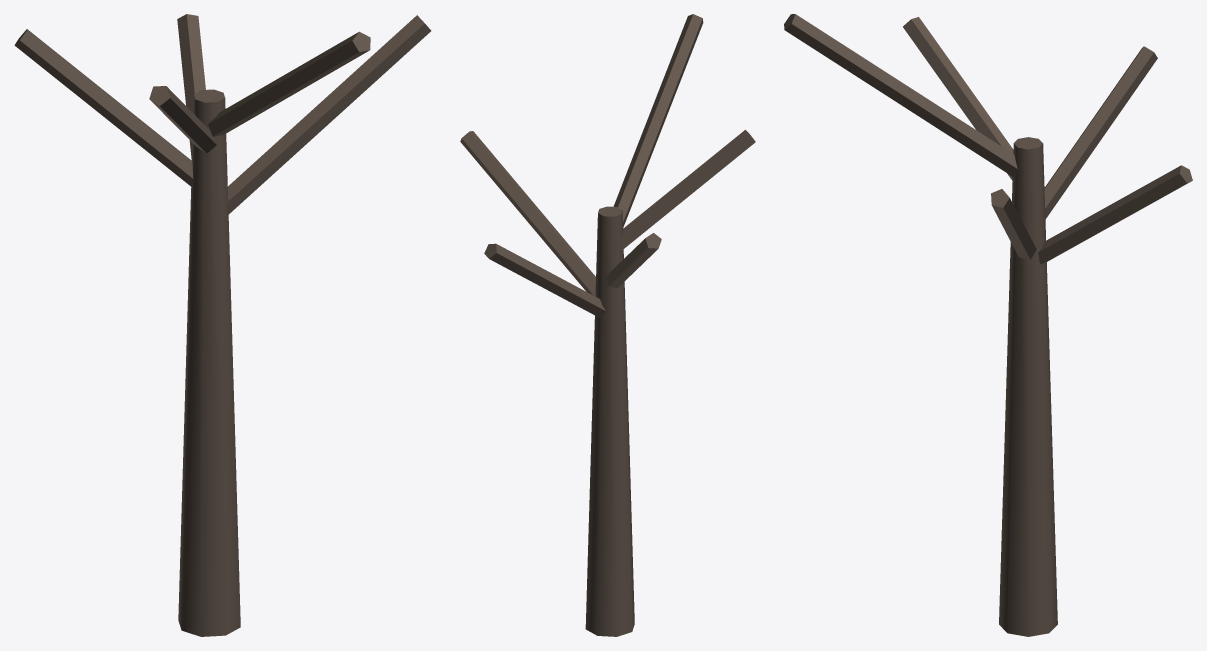
Rendered from ZR_Tree_Dead.fbx.
3 views of the same model, side by side, from view 1: azimuth 30°, elevation 25°; view 2: azimuth 150°, elevation 25°; view 3: azimuth 270°, elevation 25° (orthographic). The views are drawn at different scales.
Parts seen in each view (by area): view 1: ZR_Tree_Dead; view 2: ZR_Tree_Dead; view 3: ZR_Tree_Dead.
Part boxes in pixels (left/top/right/bottom): ZR_Tree_Dead: left=14, top=14, right=431, bottom=636; ZR_Tree_Dead: left=460, top=14, right=755, bottom=636; ZR_Tree_Dead: left=784, top=14, right=1192, bottom=636.
Bounding box in the file's own units: 2.38 × 4.64 × 2.77.
